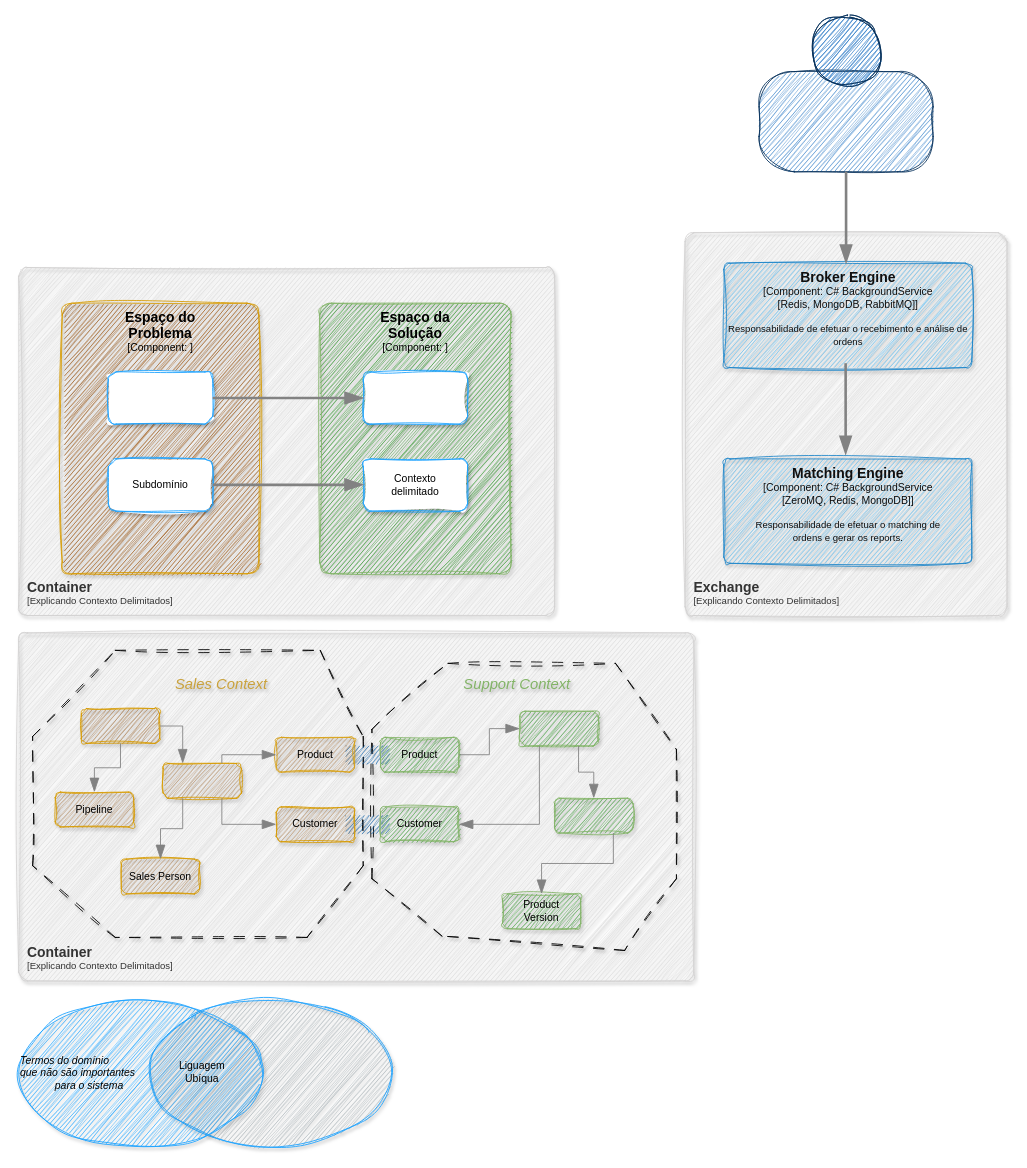
Some shapes in this 1027 by 1168 pixel diagram are drawn without their labels. The shapes that lost their labels are listed below. From the top down, each one's centre as x and y in pixels, then its label:
At point 845,93: "Trader [Person] Pessoa que envia as ordens".
At point 161,399: "Domínio".
At point 416,399: "Modelo Domínio".
At point 121,727: "Oportunity".
At point 559,729: "Ticket".
At point 203,781: "Territory".
At point 594,816: "Defect".
At point 271,1073: "Termos técnicos que só os devs precisam saber".
